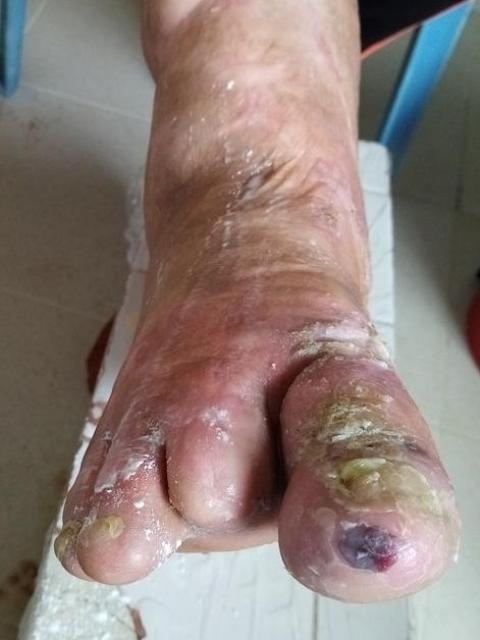wound: (330, 519, 407, 573), (229, 155, 281, 200)
